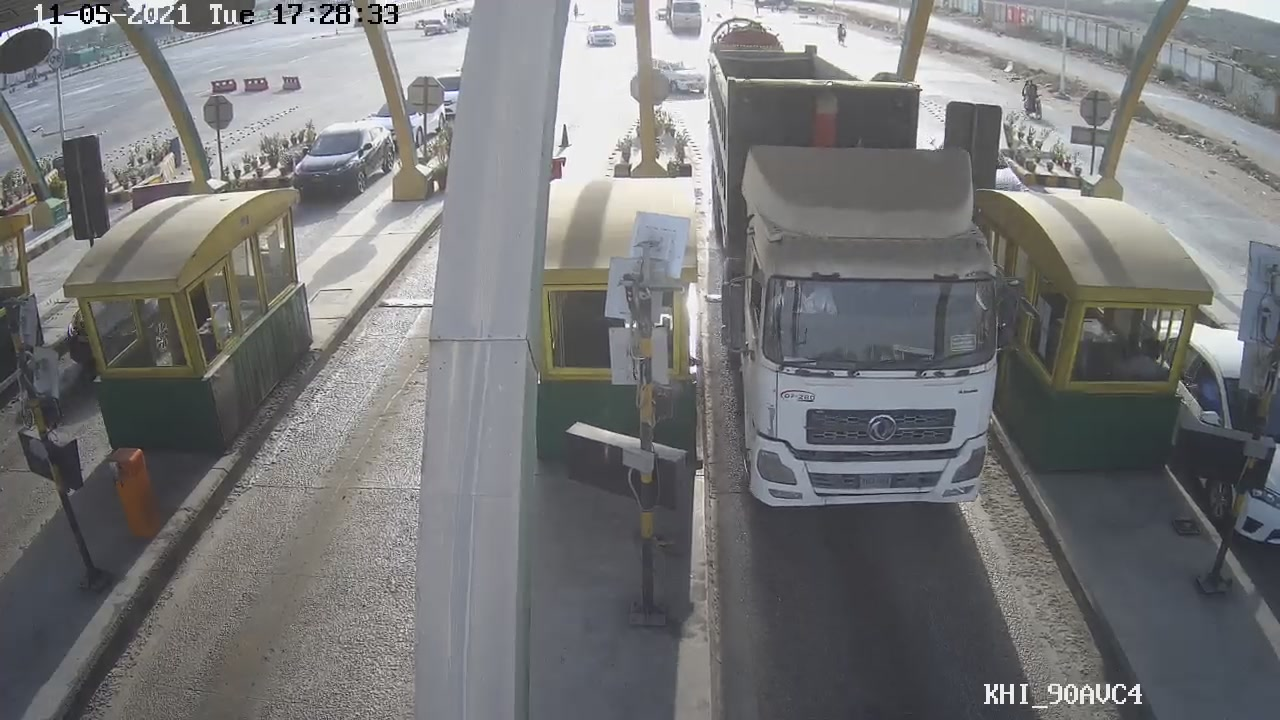F6: (696, 46, 1023, 508)
